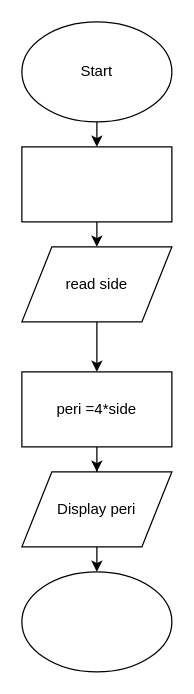
The diagram is 194 pixels wide and 694 high, and some of its shapes have lost their labels. The shapes that lost their labels are listed below. From the top down, each one's centre as x and y in pixels, then its label:
At (x=96, y=184): "Declare peri,side".
At (x=96, y=621): "Stop".
